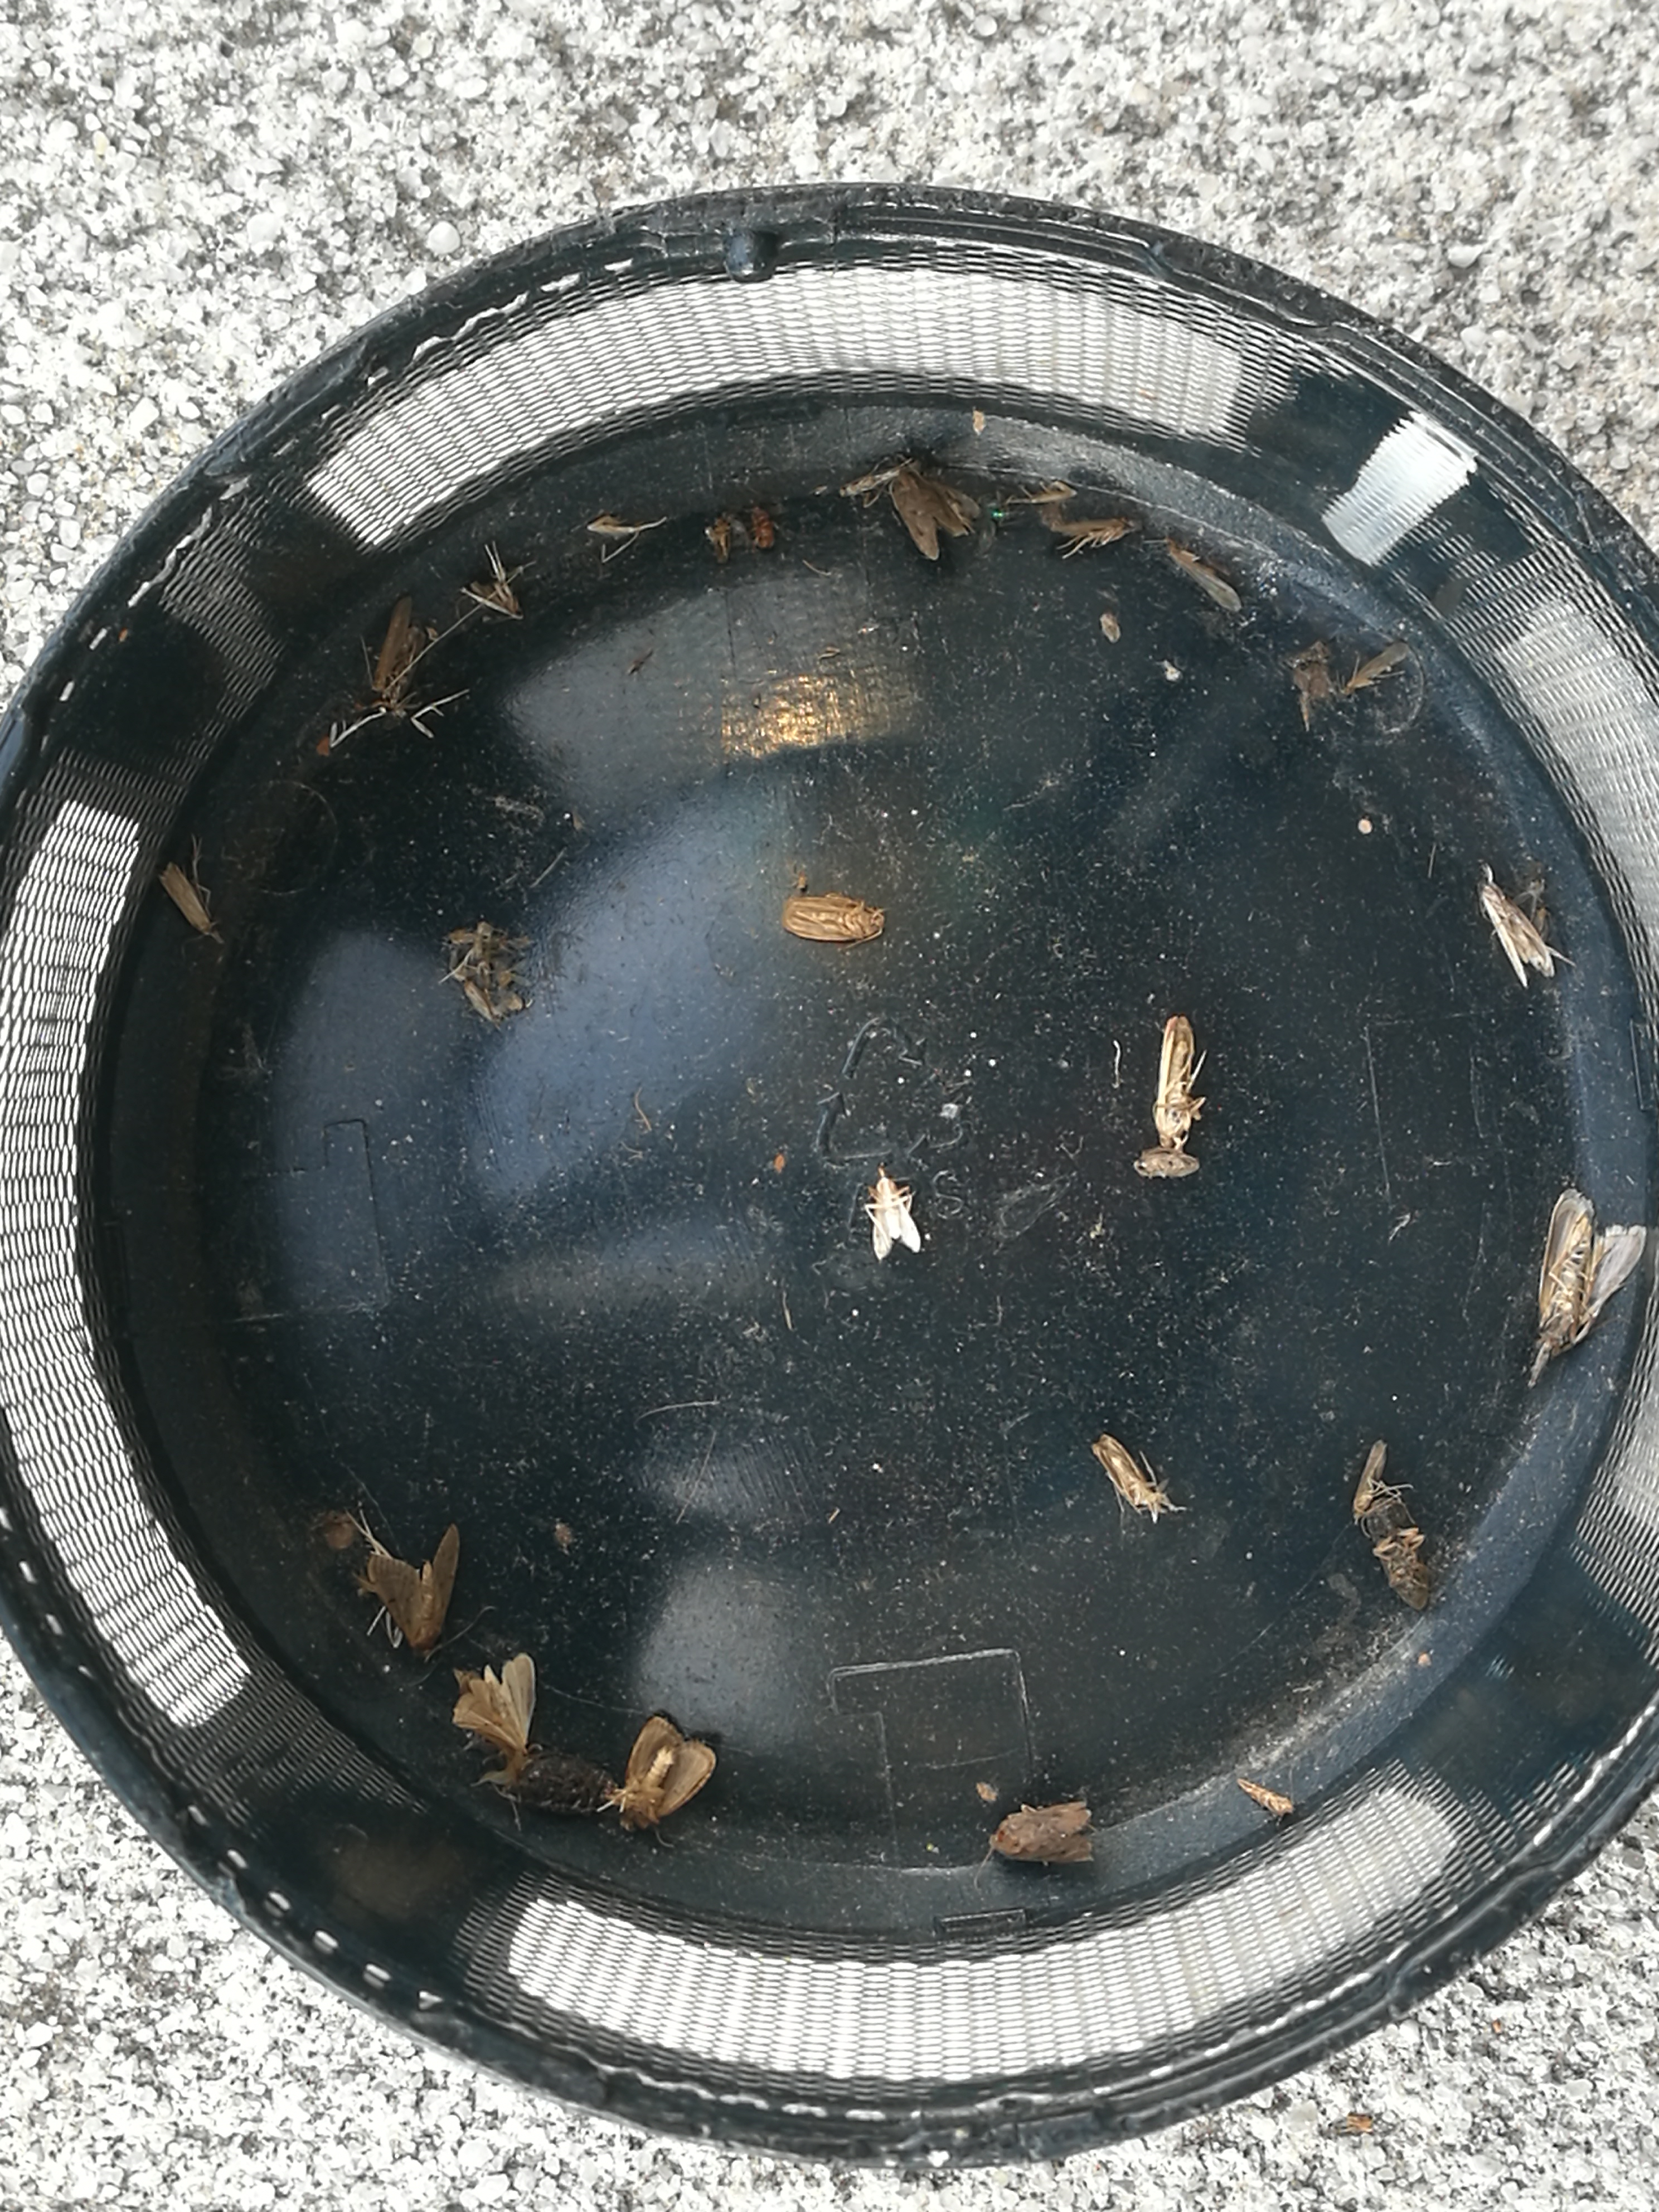mosquito: (1483, 880, 1553, 982), (1091, 1435, 1159, 1519), (1169, 549, 1241, 615), (1159, 1015, 1195, 1143), (162, 862, 216, 939), (369, 596, 411, 693), (1340, 646, 1412, 693), (1054, 519, 1141, 549), (1131, 1148, 1195, 1176)
moth: (1535, 1191, 1645, 1352), (371, 1524, 464, 1655), (622, 1717, 718, 1831), (453, 1655, 533, 1775), (892, 474, 965, 557), (995, 1801, 1091, 1860), (782, 895, 885, 946), (870, 1172, 920, 1259)
